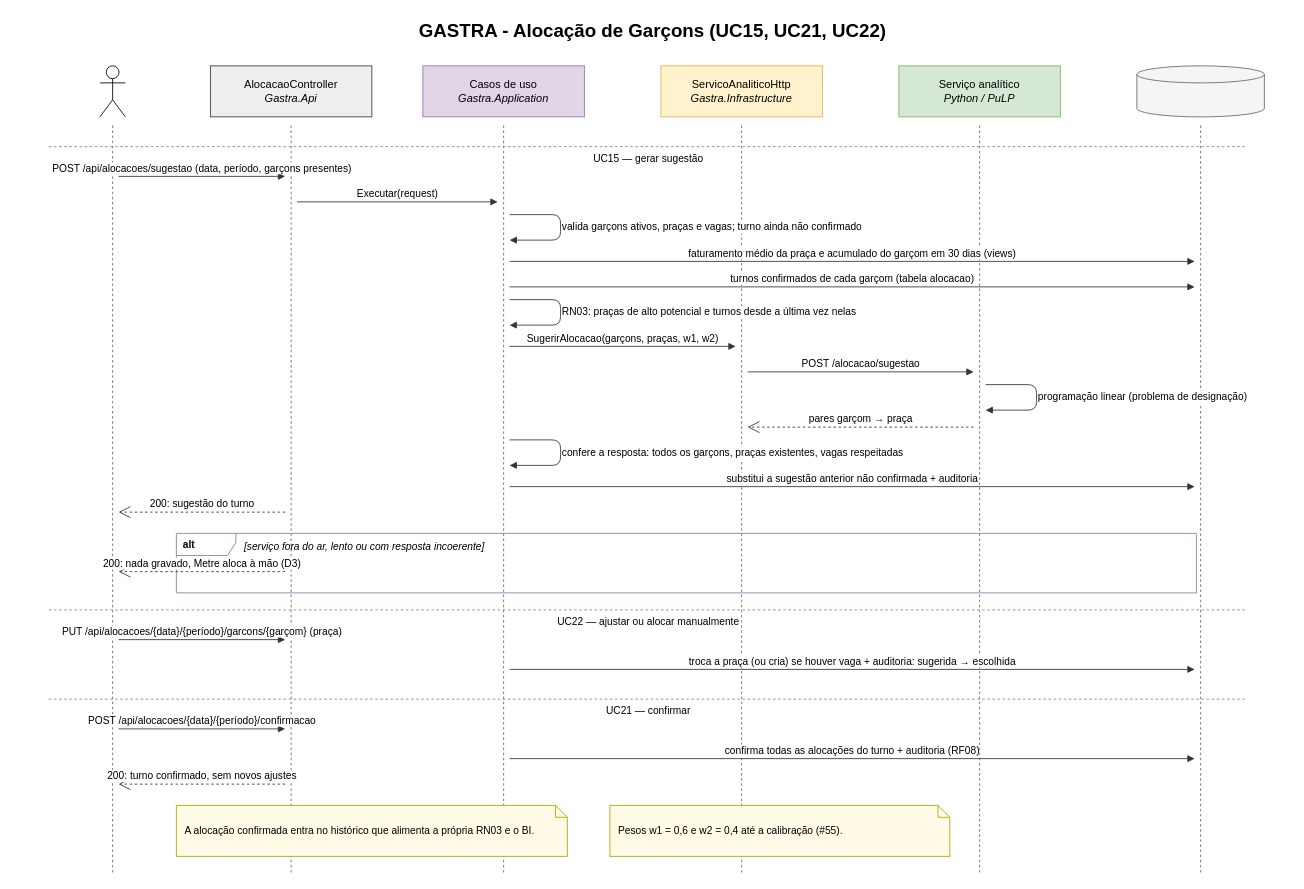
Image size: 1304x889. Some labels were removed from this diagram. Each missing label, with the centre of its shape:
Metre: (x=112, y=91)
MySQL: (x=1200, y=91)
